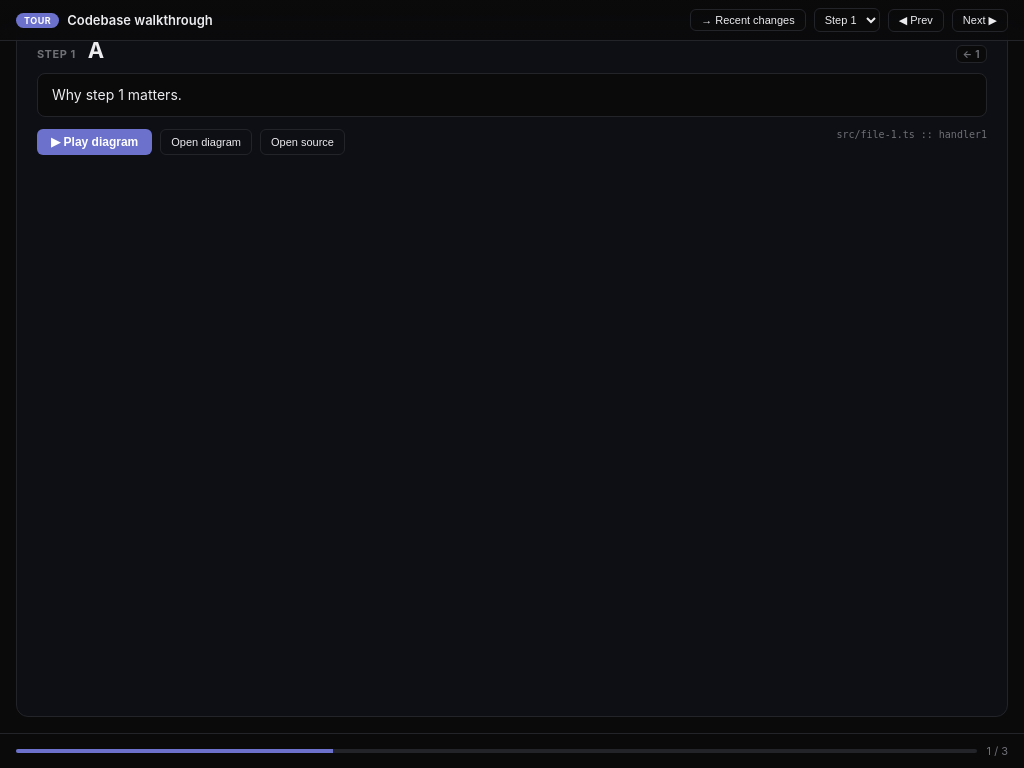
Test: TourView › Prev button rewinds to step 1
Step 1. Click the button with aria-label "Next step" → [980, 20], box [952,8,1008,32]
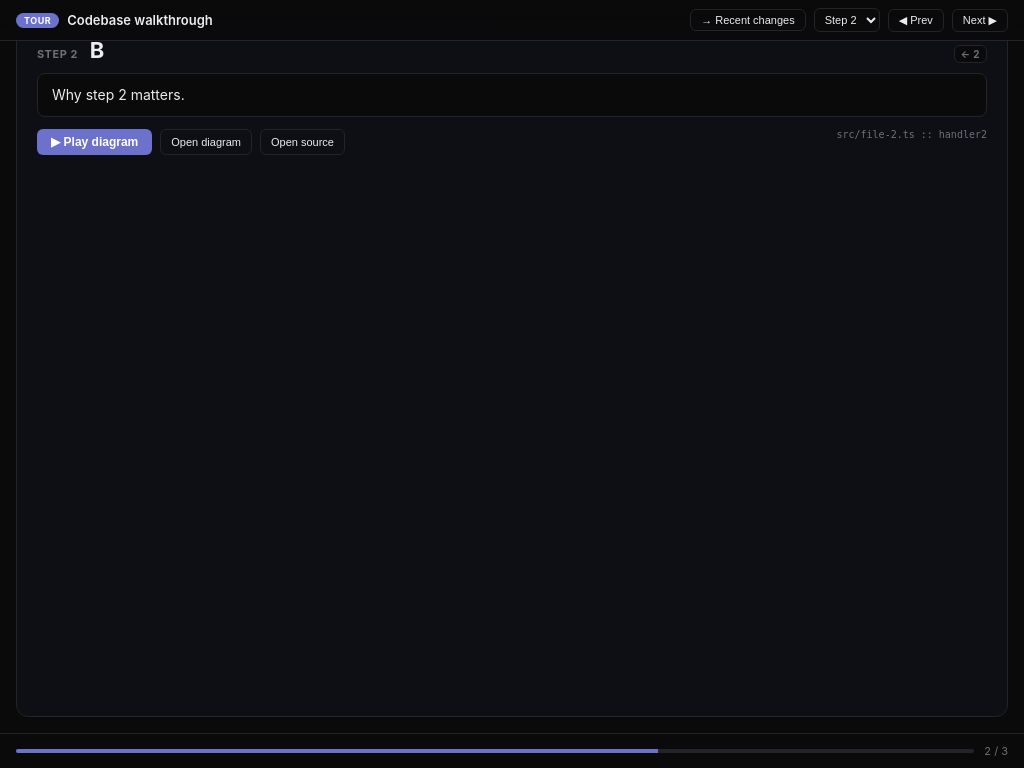
Step 2. Click the button with aria-label "Next step" → [980, 20], box [952,8,1008,32]
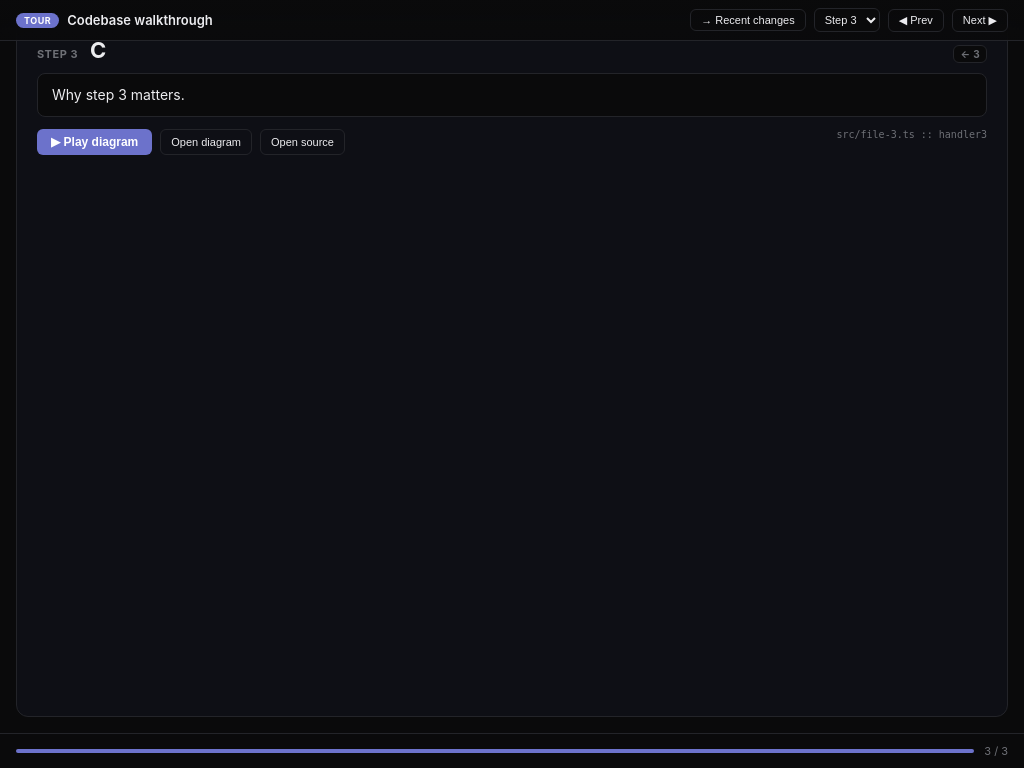
Result: the text "C" is shown at [90,37,106,63]
Step 3. Click the button with aria-label "Previous step" → [916, 20], box [888,8,944,32]
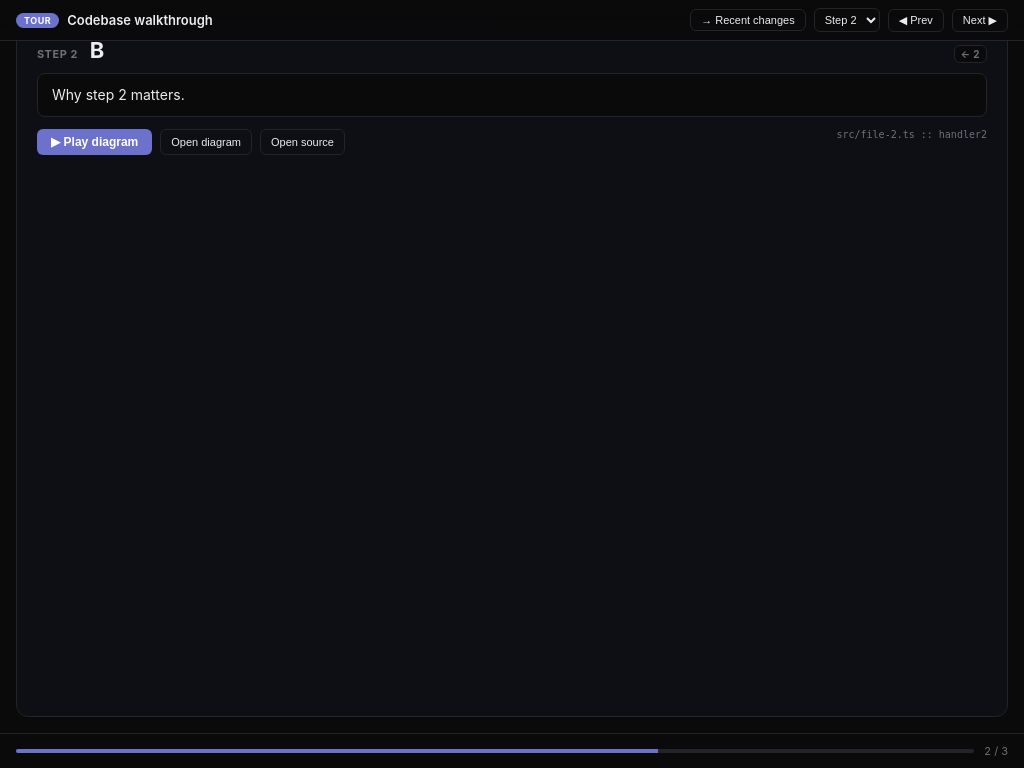
Step 4. Click the button with aria-label "Previous step" → [916, 20], box [888,8,944,32]
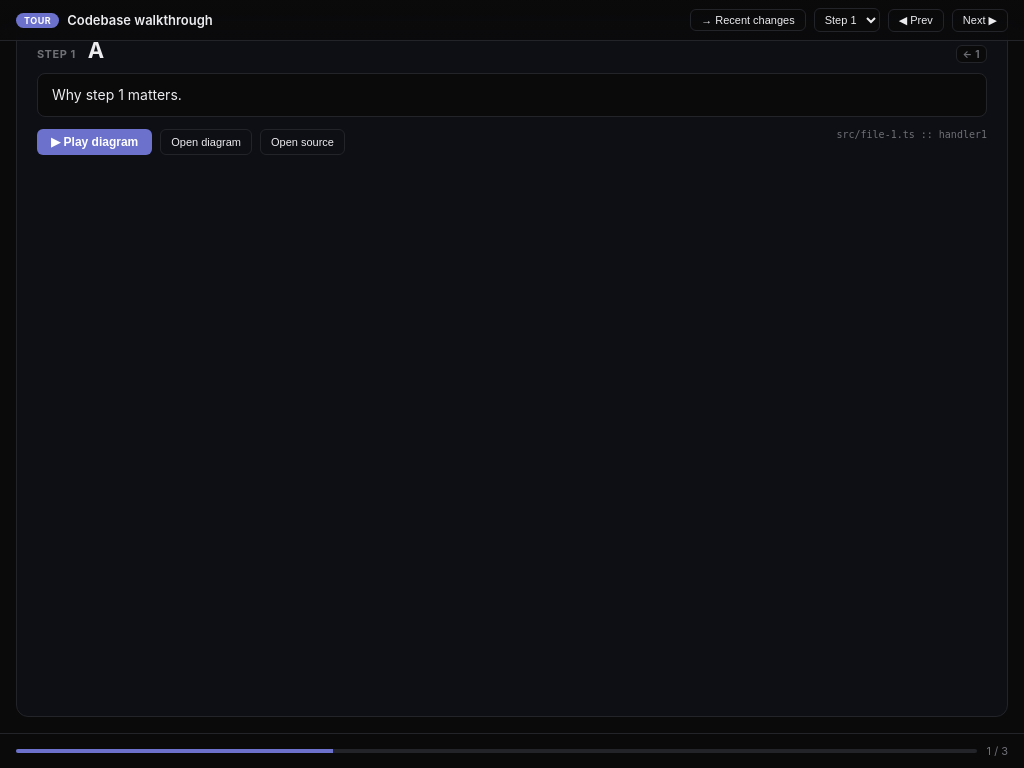
Result: the text "A" is shown at [88,37,104,63]
